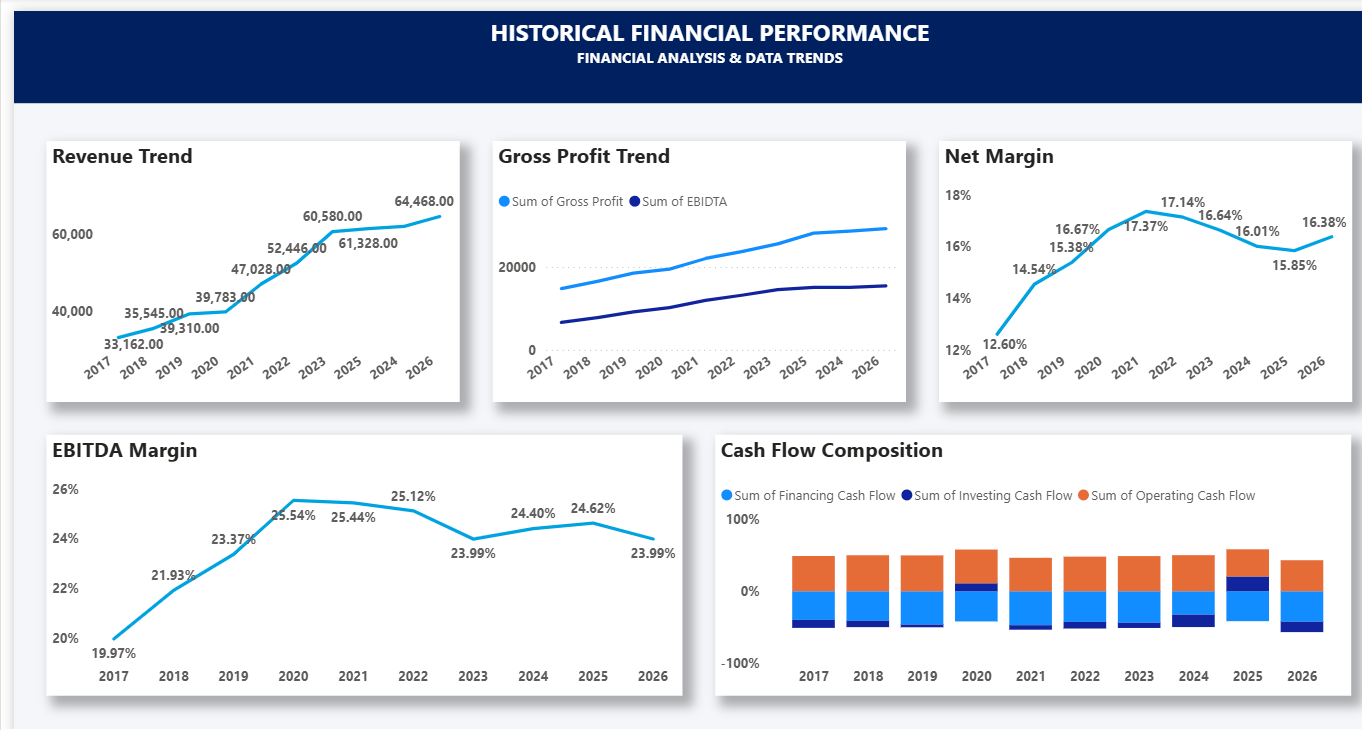

The page's visual inventory and layout, read from the dashboard file:
{"tool":"powerbi","page":{"name":"Financial Performance","canvas":[1280,720],"ordinal":1},"visuals":[{"type":"lineChart","title":"Revenue Trend","fields":{"Y":["Sum(Historicals.Revenue)"],"Category":["Historicals.Years"]},"box":[30,120,380,240],"z":0},{"type":"lineChart","title":"Gross Profit Trend","fields":{"Category":["Historicals.Years"],"Y":["Sum(Historicals.Gross Profit)","Sum(Historicals.EBIDTA)"]},"box":[440,120,380,240],"z":1000},{"type":"lineChart","title":"EBITDA Margin","fields":{"Y":["Sum(Historicals.EBIDTA Margin)"],"Category":["Historicals.Years"]},"box":[30,390,585,240],"z":2000},{"type":"lineChart","title":"Net Margin","fields":{"Category":["Historicals.Years"],"Y":["Sum(Historicals.Net Margin)"]},"box":[850,120,380,240],"z":3000},{"type":"hundredPercentStackedColumnChart","title":"Cash Flow Composition","fields":{"Category":["Cashflow.Years"],"Y":["Sum(Cashflow.Financing Cash Flow)","Sum(Cashflow.Investing Cash Flow)","Sum(Cashflow.Operating Cash Flow)"]},"box":[645,390,585,240],"z":4000},{"type":"textbox","box":[0,0,1280,85],"z":5000}]}

Visuals, with their boxes on the page's 1280x720 design canvas (x1, y1, x2, y2). These are canvas units, not pixel positions in the 1362x730 screenshot, which may show the page scaled, cropped or inside an application window:
"Revenue Trend" lineChart: [30, 120, 410, 360]
"Gross Profit Trend" lineChart: [440, 120, 820, 360]
"EBITDA Margin" lineChart: [30, 390, 615, 630]
"Net Margin" lineChart: [850, 120, 1230, 360]
"Cash Flow Composition" hundredPercentStackedColumnChart: [645, 390, 1230, 630]
textbox: [0, 0, 1280, 85]
